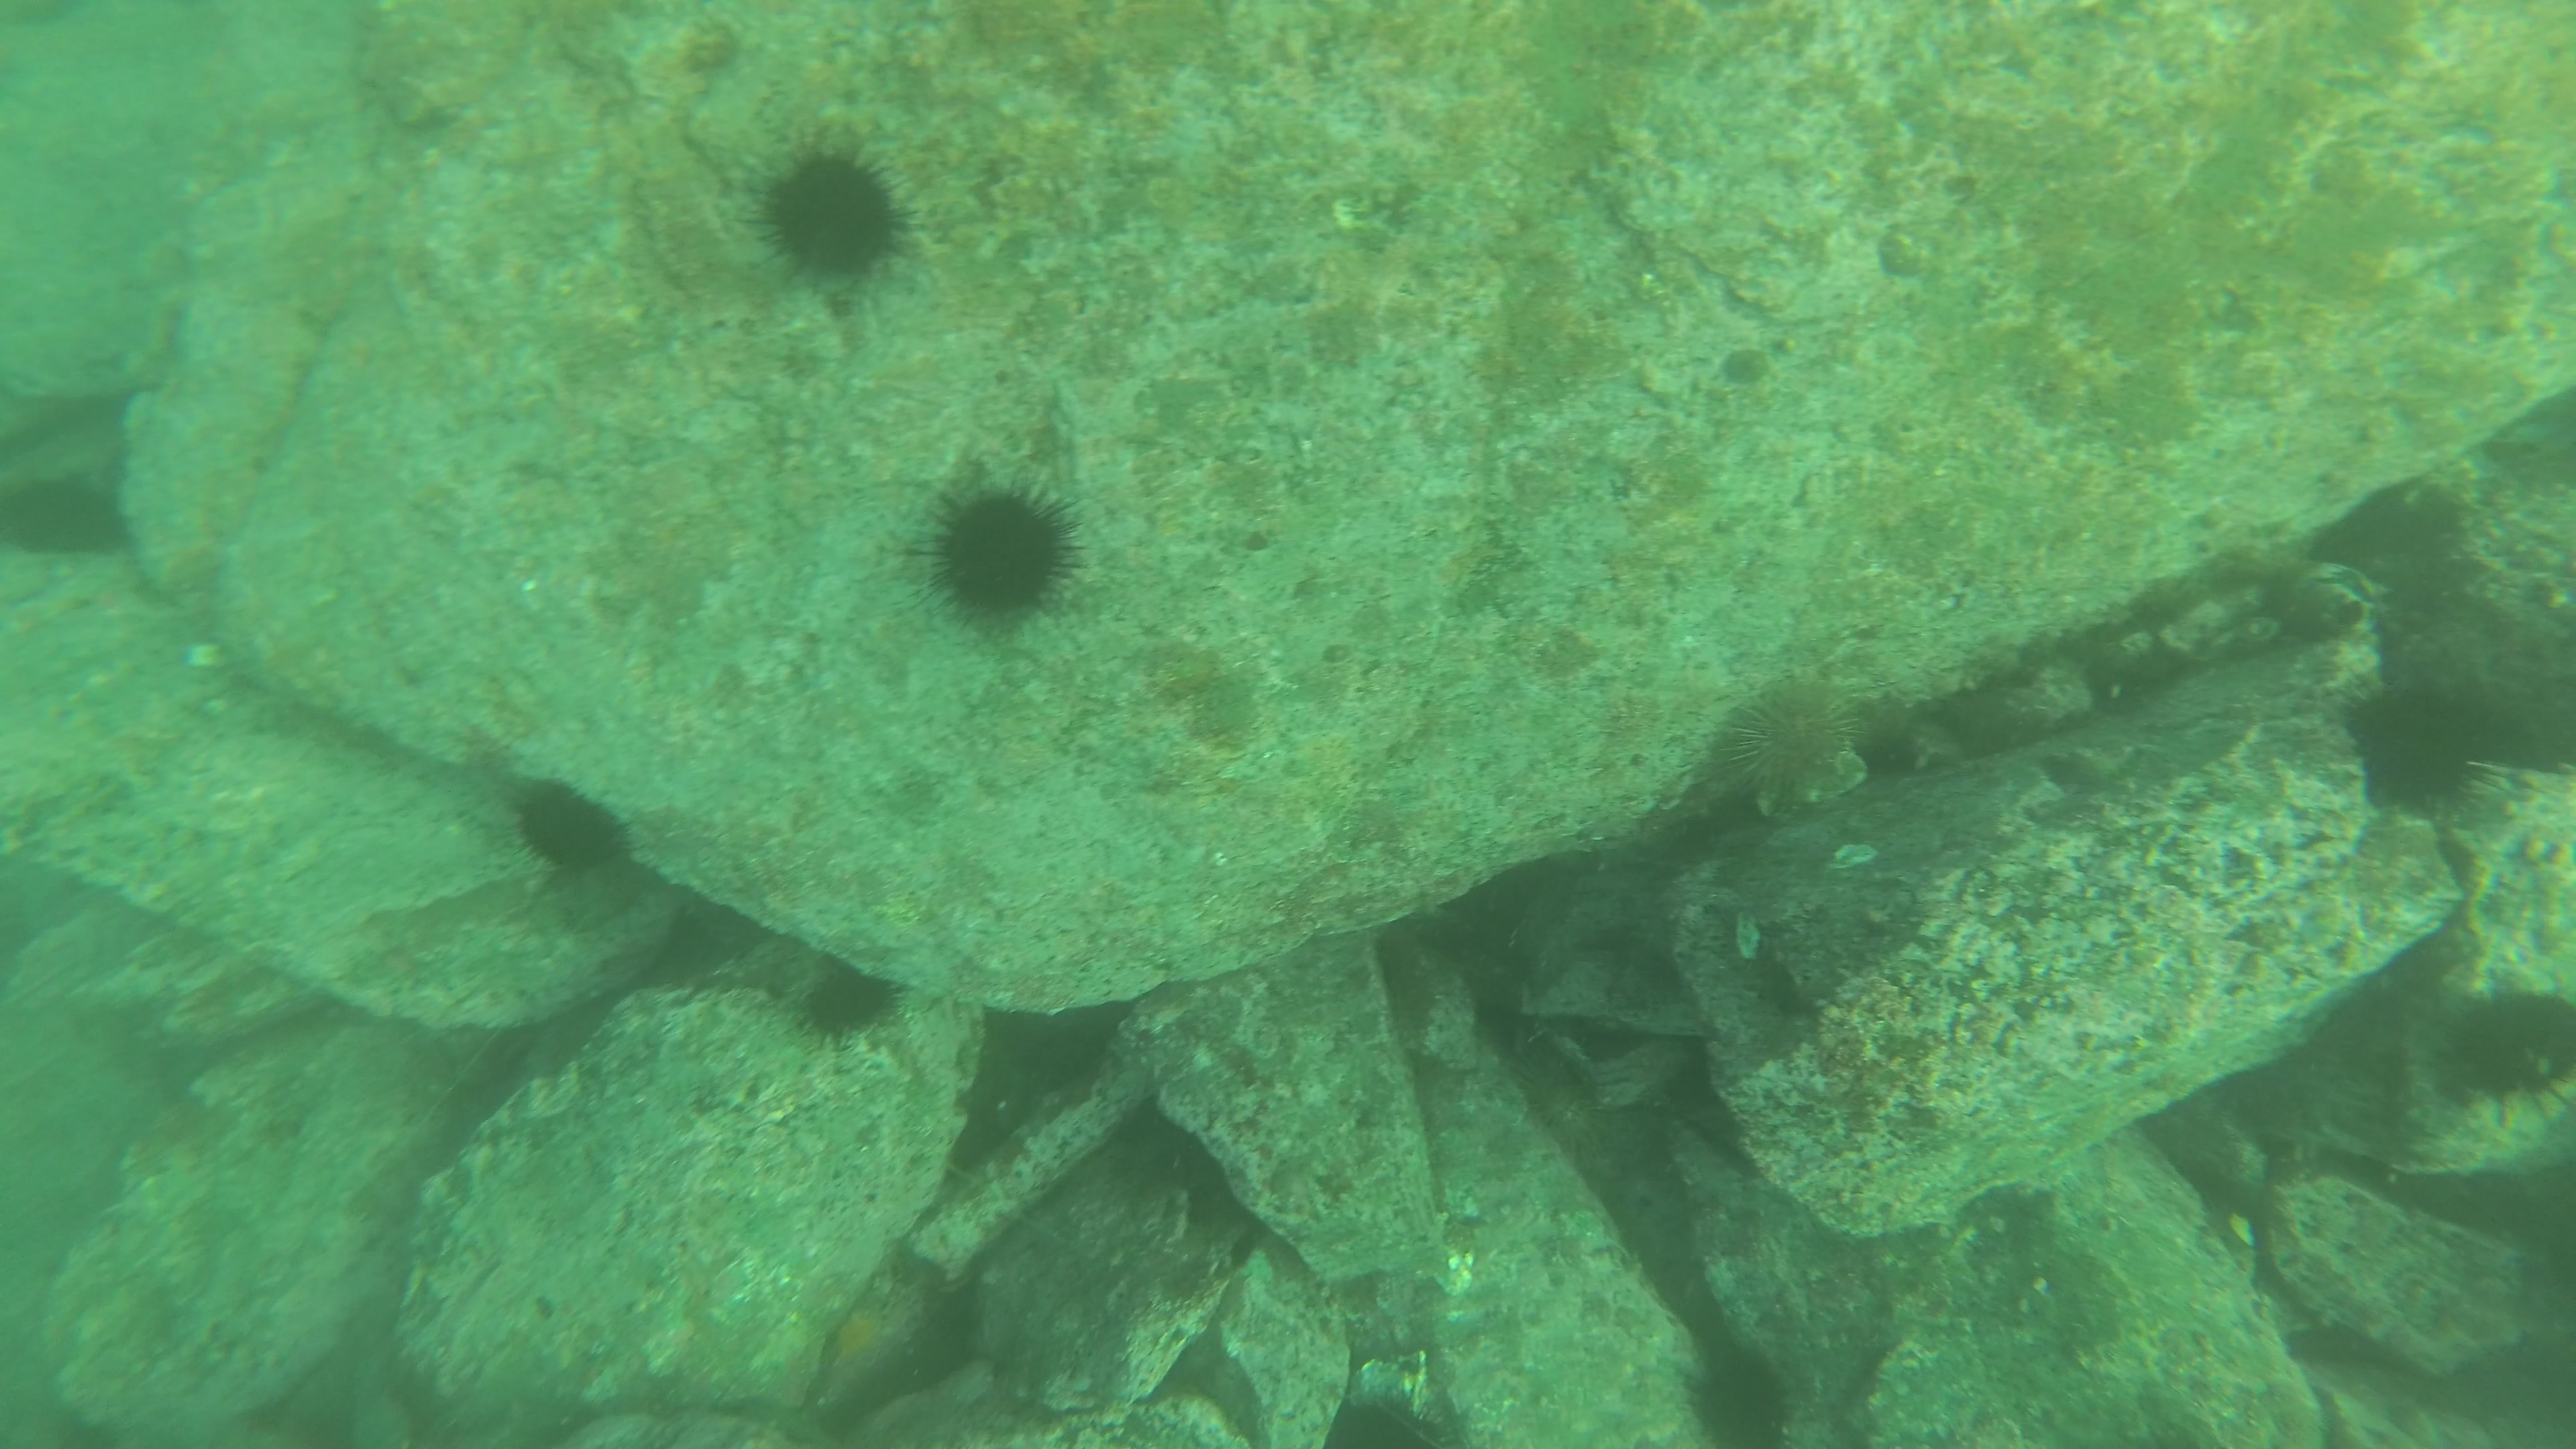echinus: (892, 481, 1079, 619), (754, 134, 908, 297), (2351, 692, 2495, 816), (2454, 987, 2576, 1120), (1732, 679, 1863, 800), (520, 782, 628, 869), (1698, 1353, 1799, 1442), (794, 977, 899, 1042), (1325, 1407, 1449, 1449)
starfish: (817, 1299, 931, 1407)
